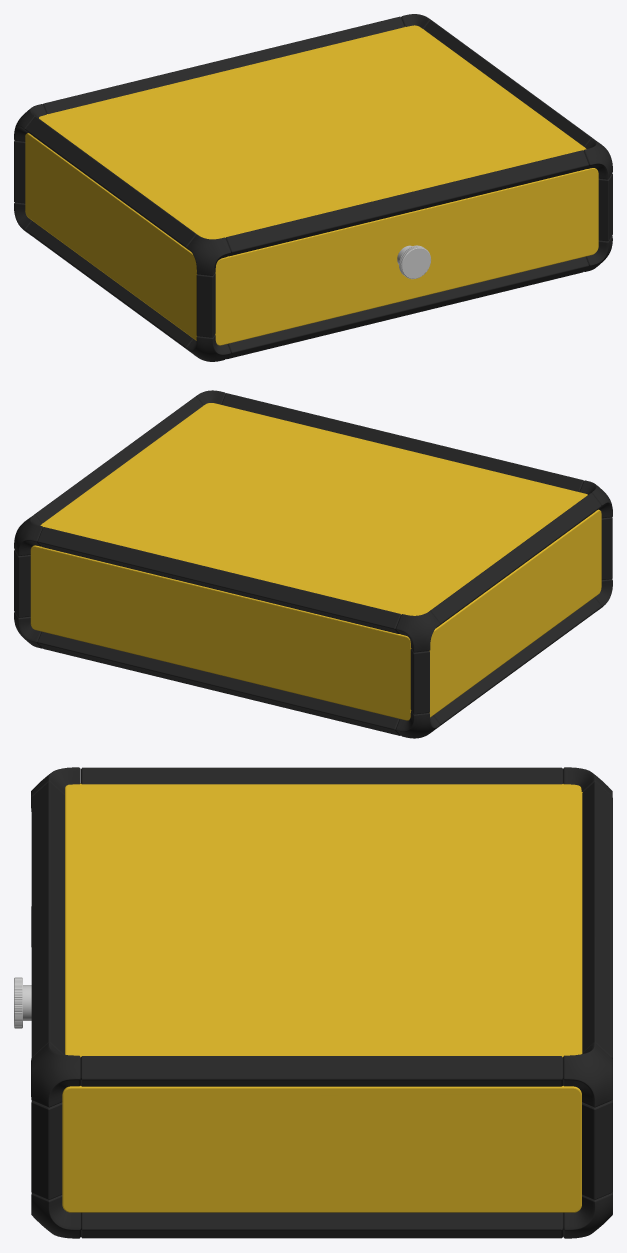
3 views of the same model, one above another, from view 1: azimuth 30°, elevation 25°; view 2: azimuth 150°, elevation 25°; view 3: azimuth 270°, elevation 25° (orthographic). The views are drawn at different scales.
Visible parts, largest first — view 1: 479x374x79; view 2: 479x374x79; view 3: 479x374x79.
Part boxes in pixels (x1,y1,x2,y2): 479x374x79: (14, 14, 612, 361); 479x374x79: (14, 390, 612, 738); 479x374x79: (14, 767, 612, 1238).
Size of the model in its own units: 0.5567 by 0.1566 by 0.4646.
